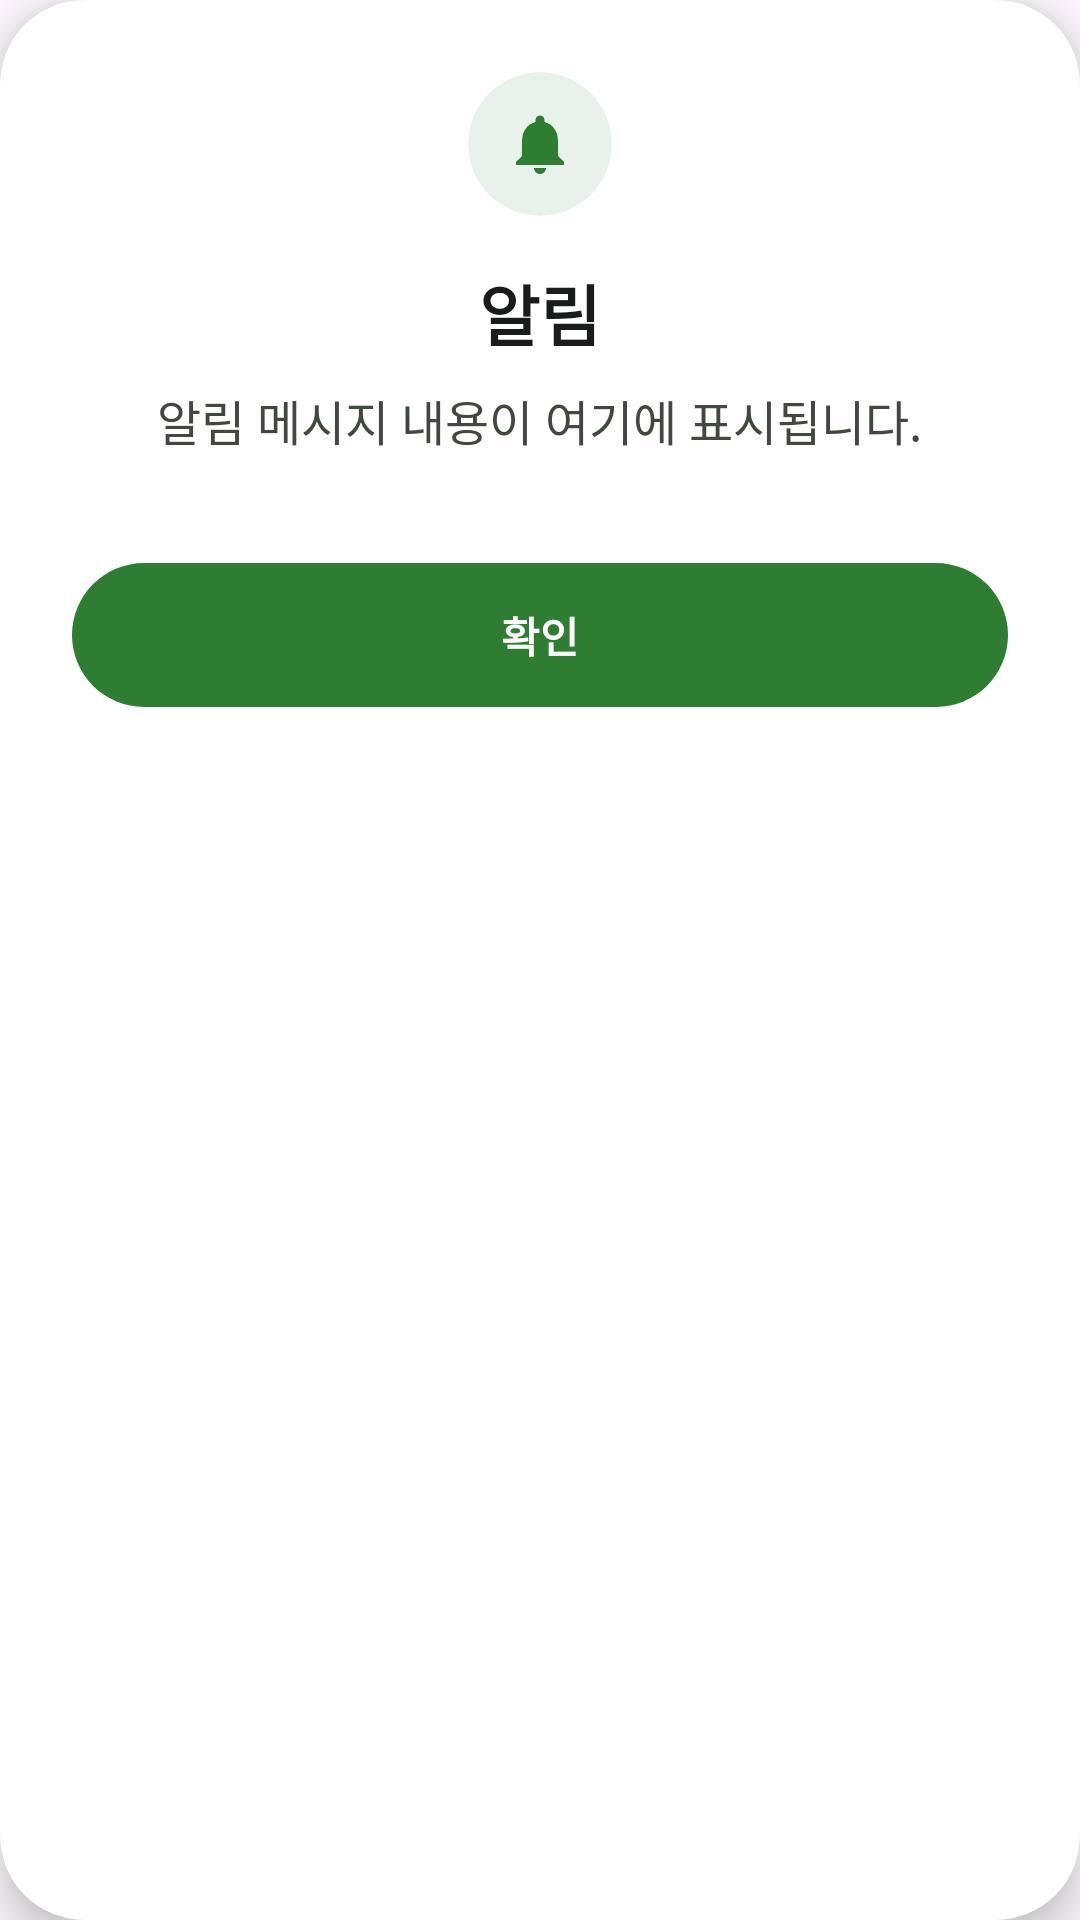

Where icons sit on this 1080w x 1920h app screen, as bbox=[x1, y1, x2, y2]:
notifications: bbox=[516, 115, 564, 174]
